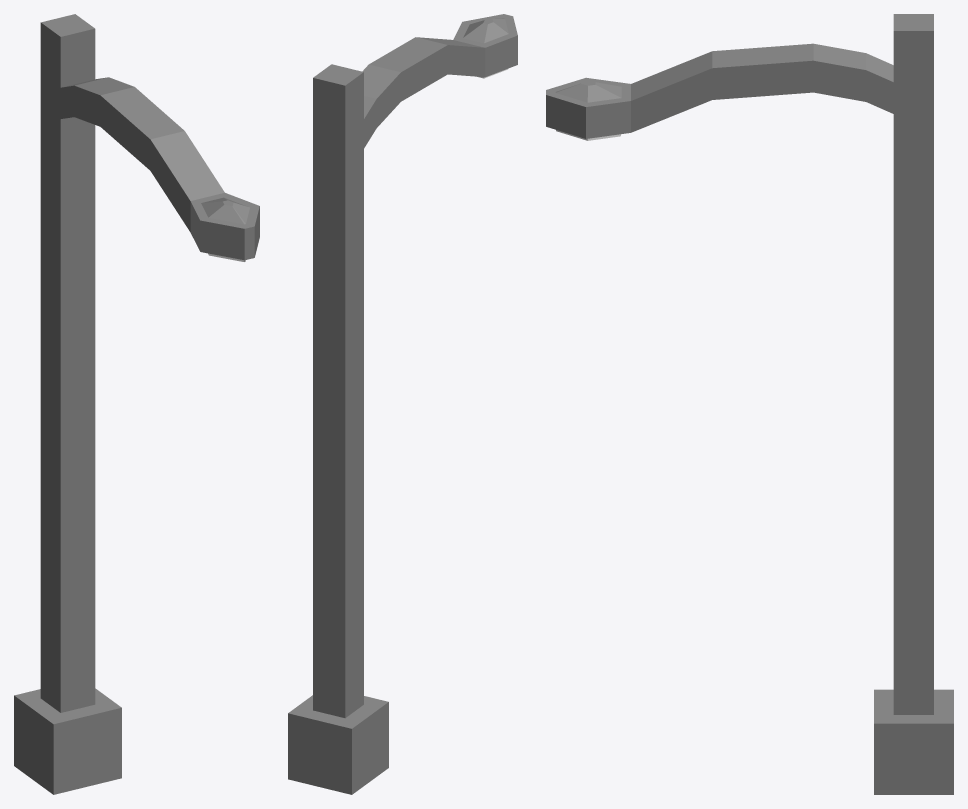
The model's file is lamp.fbx.
3 renders of one model, left to right at view 1: azimuth 30°, elevation 25°; view 2: azimuth 150°, elevation 25°; view 3: azimuth 270°, elevation 25°, orthographic. The views are drawn at different scales.
Visible parts, largest first — view 1: Lamp; view 2: Lamp; view 3: Lamp.
Part boxes in pixels (x1,y1,x2,y2): Lamp: [14, 14, 259, 794]; Lamp: [288, 14, 517, 794]; Lamp: [546, 14, 953, 794].
Bounding box in the file's own units: 171 × 1783 × 872.
